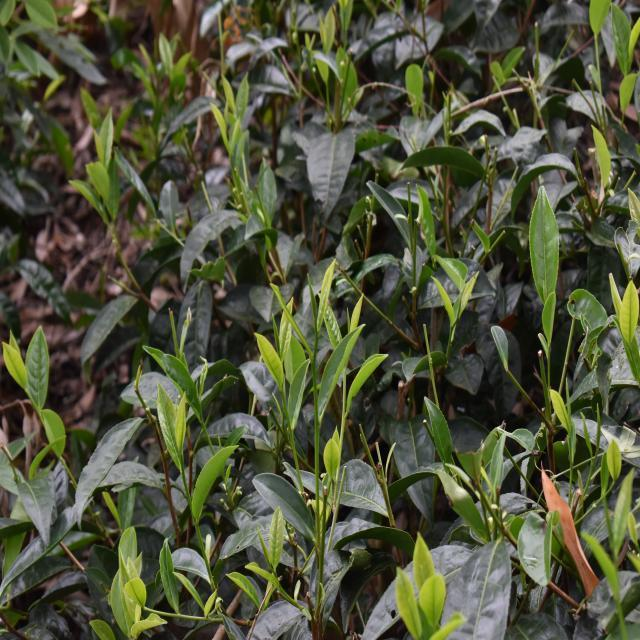Stem: (181, 468, 184, 475), (38, 407, 41, 413), (315, 335, 318, 341)
